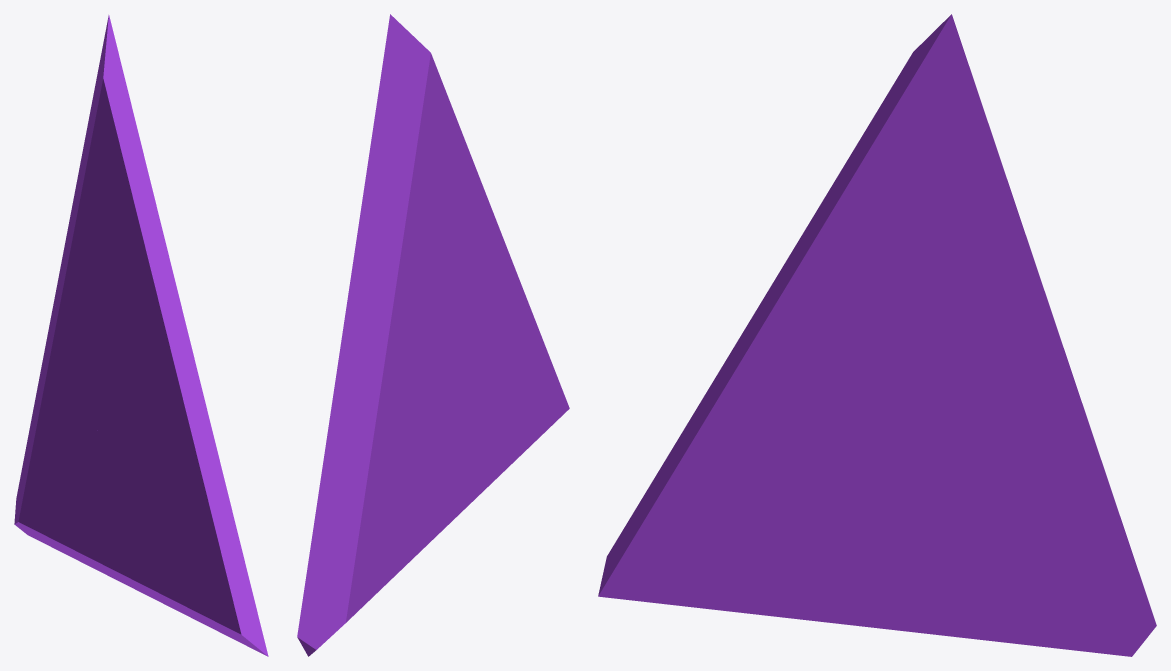
Rendered from Window_46_4_chunks.fbx.
3 views of the same model, side by side, from view 1: azimuth 30°, elevation 25°; view 2: azimuth 150°, elevation 25°; view 3: azimuth 270°, elevation 25° (orthographic). The views are drawn at different scales.
Parts seen in each view (by area): view 1: Window_46_4_2, Window_46_4_0, Window_46_4_3; view 2: Window_46_4_2, Window_46_4_3, Window_46_4_0; view 3: Window_46_4_2, Window_46_4_3, Window_46_4_0, Window_46_4_1.
Boxes of the visible parts, left/top/right/bottom form: Window_46_4_2: left=54, top=15, right=222, bottom=471; Window_46_4_0: left=114, top=463, right=268, bottom=656; Window_46_4_3: left=14, top=292, right=122, bottom=582; Window_46_4_2: left=337, top=14, right=526, bottom=428; Window_46_4_3: left=297, top=369, right=444, bottom=656; Window_46_4_0: left=442, top=299, right=569, bottom=530; Window_46_4_2: left=699, top=14, right=1068, bottom=494; Window_46_4_3: left=889, top=363, right=1156, bottom=656; Window_46_4_0: left=598, top=401, right=849, bottom=619; Window_46_4_1: left=804, top=492, right=921, bottom=632.
Bounding box in the file's own units: 27.2 × 652 × 514.
